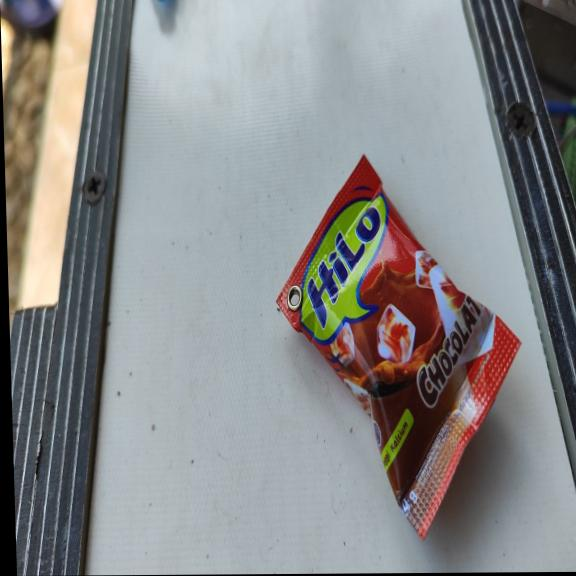Plastik: (269, 151, 528, 548)
